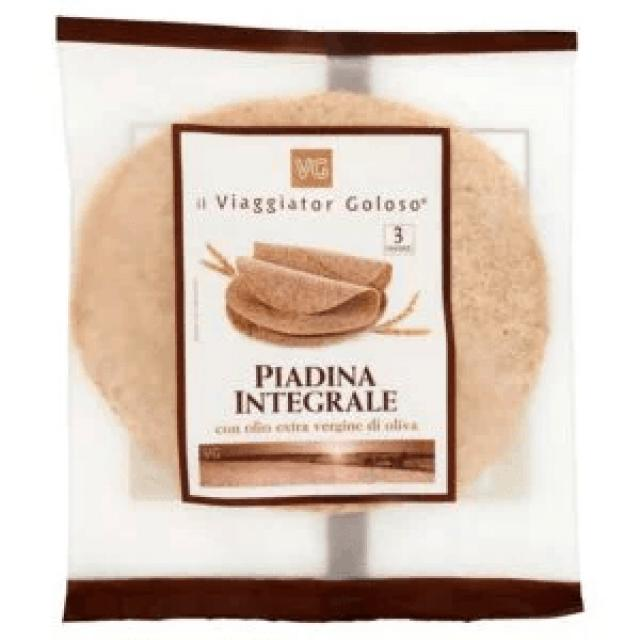bread: (55, 19, 578, 623)
